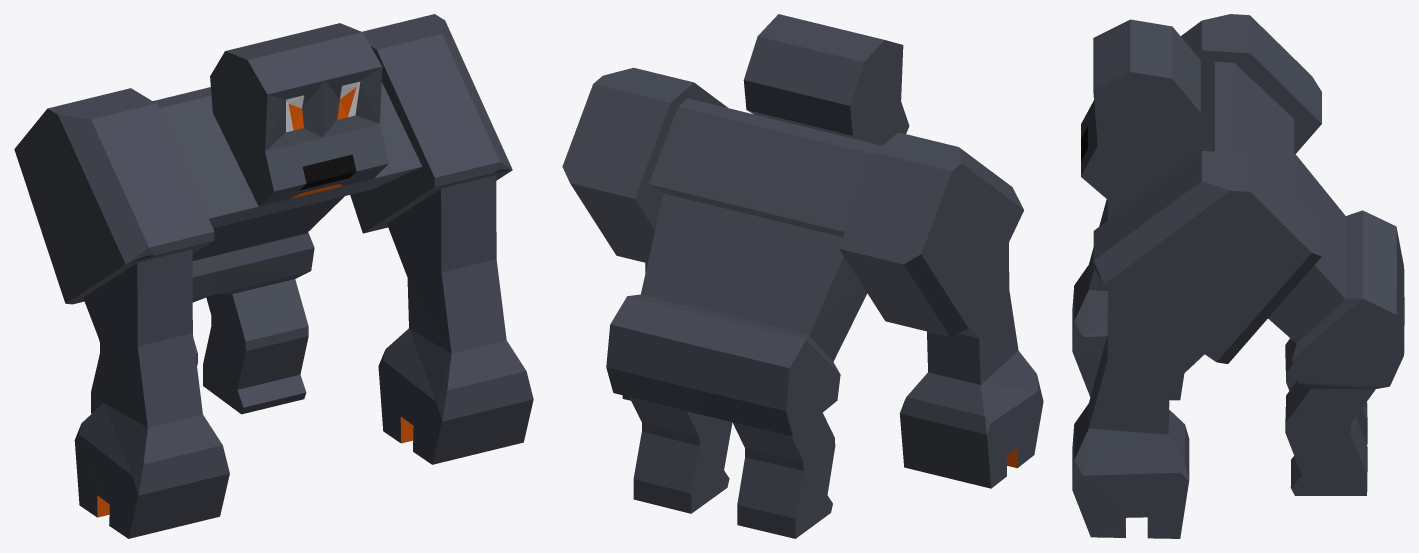
The model's file is kong_000000.obj.
3 views of the same model, side by side, from view 1: azimuth 30°, elevation 25°; view 2: azimuth 150°, elevation 25°; view 3: azimuth 270°, elevation 25° (orthographic). The views are drawn at different scales.
Visible parts, largest first — view 1: Cube; view 2: Cube; view 3: Cube.
Boxes of the visible parts, bbox=[...] form: Cube: bbox=[14, 14, 533, 538]; Cube: bbox=[562, 14, 1043, 538]; Cube: bbox=[1072, 14, 1404, 538].
Size of the model in its own units: 5.84 by 6.16 by 4.52.
1 material, 1 textured.
